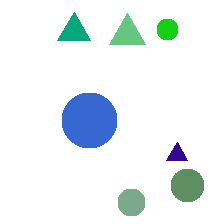circle: (62, 93, 116, 147), (171, 169, 203, 201), (118, 189, 144, 215), (157, 19, 177, 39)
triangle: (109, 13, 145, 44), (57, 12, 90, 40), (166, 142, 187, 160)
